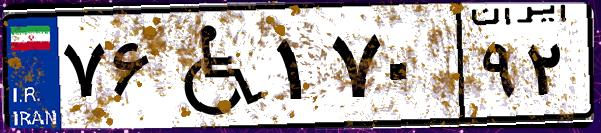0: (385, 28, 445, 110)
1: (270, 28, 330, 110)
2: (525, 38, 570, 115)
6: (110, 28, 158, 98)
7: (330, 28, 385, 110), (57, 26, 110, 100)
9: (475, 38, 525, 113)
ژ (معلولین و جانبازان): (158, 12, 270, 120)
